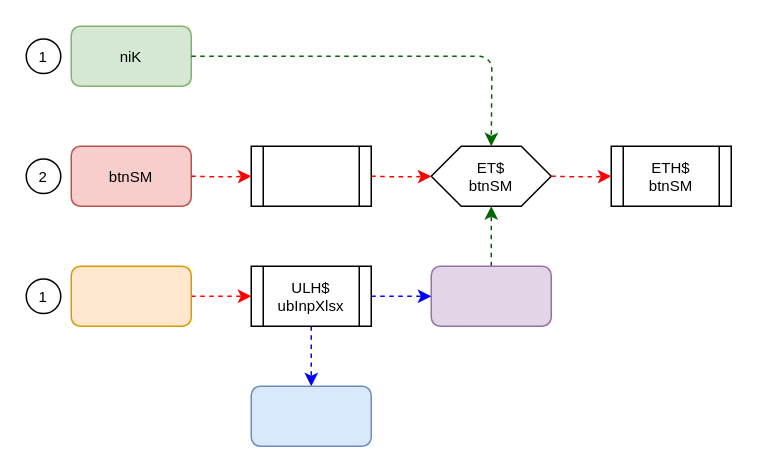
Image size: 758x473. Some labels were removed from this diagram. Here are the shapes that lost their labels. From the top down, the box of each, then its label:
(250, 145, 371, 206): ABH$ btnSM
(70, 265, 191, 326): input$ ubInpXlsx
(430, 265, 551, 326): RV$ inpDf
(250, 385, 371, 446): output$ toInpXlsxError
